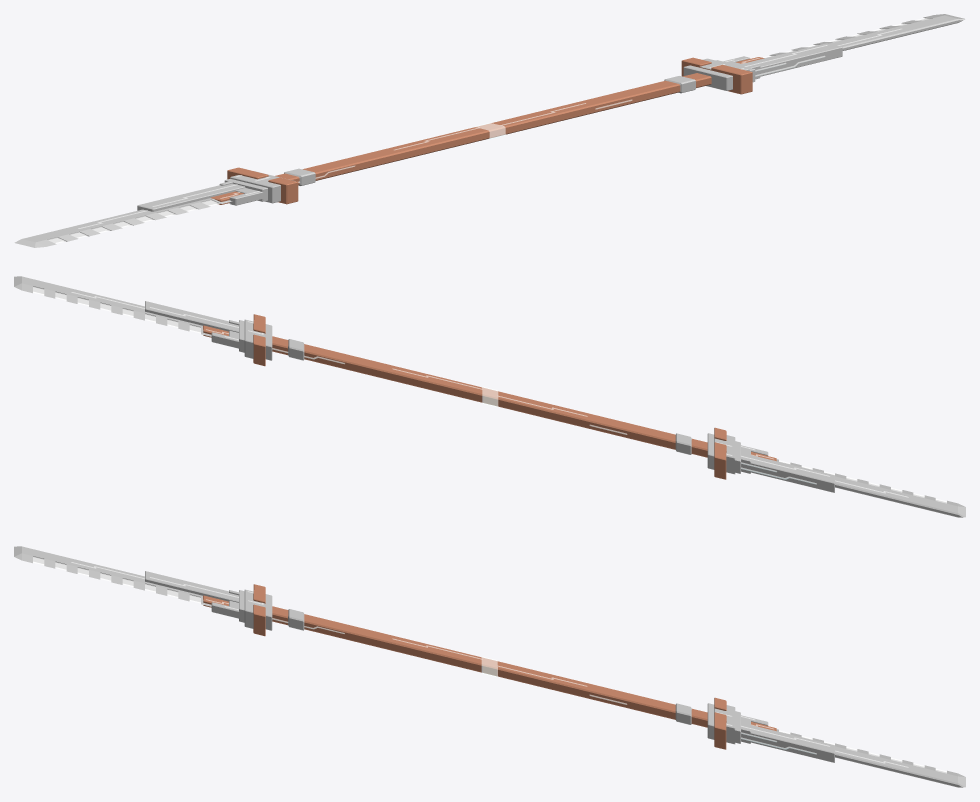
Rendered from weap2_spear.fbx.
The picture shows the model from 3 angles, top to bottom: view 1: azimuth 30°, elevation 25°; view 2: azimuth 150°, elevation 25°; view 3: azimuth 330°, elevation 25°; orthographic projection.
Parts seen in each view (by area): view 1: weap2_spear; view 2: weap2_spear; view 3: weap2_spear.
Boxes of the visible parts, x1=… form: weap2_spear: x1=14, y1=14, x2=965, y2=247; weap2_spear: x1=14, y1=276, x2=965, y2=517; weap2_spear: x1=14, y1=546, x2=965, y2=787.
Size of the model in its own units: 202 by 4.08 by 11.54.
